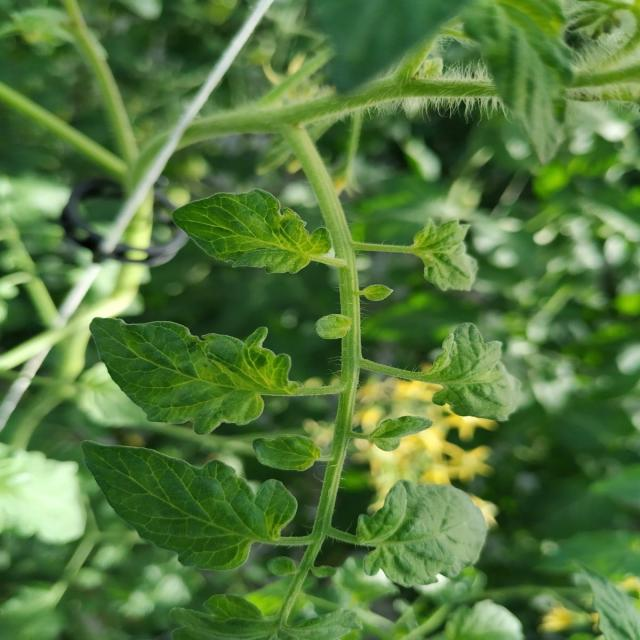T_L_H: (82, 443, 297, 571), (357, 481, 488, 588)
T_L_R: (90, 320, 298, 434), (174, 190, 332, 273), (424, 324, 521, 422), (411, 221, 478, 291)
T_S_H: (313, 412, 351, 540)
T_S_R: (283, 126, 363, 391)
